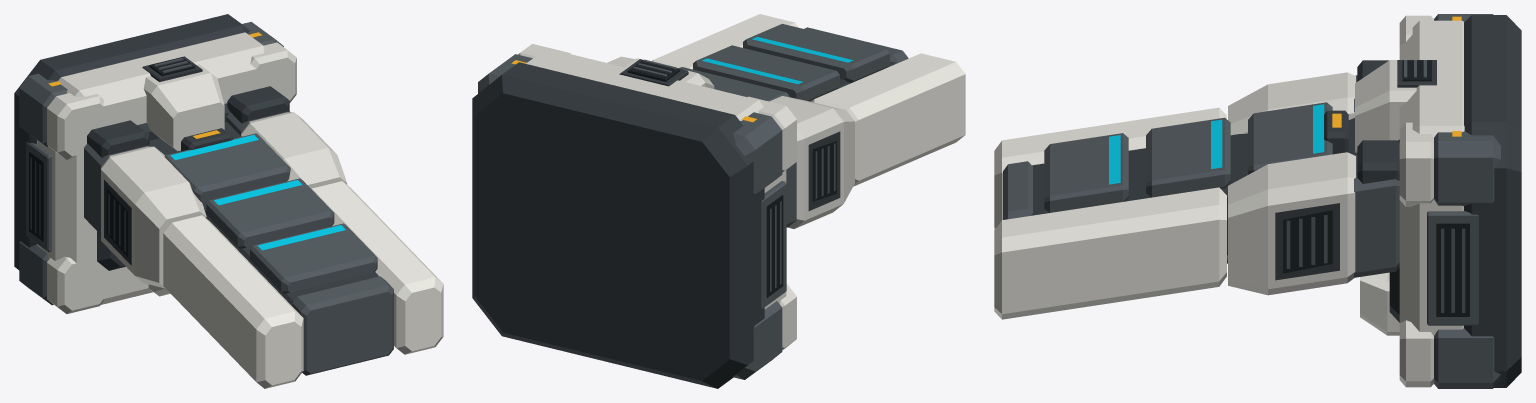
The model's file is shared_corner.obj.
The picture shows the model from 3 angles, left to right: view 1: azimuth 30°, elevation 25°; view 2: azimuth 150°, elevation 25°; view 3: azimuth 270°, elevation 25°; orthographic projection. The views are drawn at different scales.
Parts seen in each view (by area): view 1: long_cheek, sculpted_foot, flared_hip, upper_crossbeam, bumper_cap, lower_plinth, emitter_slab_2, emitter_slab_1, emitter_slab_0, front_service, bumper, ankle_front_brace (+14 smaller); view 2: lower_plinth, long_cheek, bumper, flared_hip, sculpted_foot, emitter_slab_2, emitter_slab_1, bumper_cap, side_vent_frame, side_vent, hip_vent, emitter_slab_0 (+9 smaller); view 3: long_cheek, lower_plinth, flared_hip, sculpted_foot, bumper, emitter_slab_1, emitter_slab_2, bumper_cap, ankle, emitter_slab_0, front_service, side_vent_frame (+16 smaller).
Boxes of the visible parts, x1,y1,x2,y2 form: long_cheek: [163, 181, 443, 388]; sculpted_foot: [37, 32, 280, 304]; flared_hip: [101, 112, 347, 288]; upper_crossbeam: [292, 276, 393, 375]; bumper_cap: [47, 42, 296, 313]; lower_plinth: [14, 14, 249, 270]; emitter_slab_2: [250, 223, 377, 293]; emitter_slab_1: [206, 178, 334, 248]; emitter_slab_0: [164, 133, 290, 202]; front_service: [143, 64, 224, 150]; bumper: [19, 21, 283, 305]; ankle_front_brace: [87, 86, 289, 157]; lower_plinth: [472, 62, 764, 388]; long_cheek: [652, 14, 965, 186]; bumper: [478, 54, 782, 379]; flared_hip: [607, 56, 854, 228]; sculpted_foot: [526, 48, 786, 309]; emitter_slab_2: [743, 23, 889, 83]; emitter_slab_1: [693, 45, 839, 101]; bumper_cap: [518, 44, 796, 349]; side_vent_frame: [761, 181, 786, 308]; side_vent: [766, 195, 783, 297]; hip_vent: [812, 141, 836, 201]; emitter_slab_0: [679, 67, 789, 101]; long_cheek: [994, 107, 1226, 319]; lower_plinth: [1464, 15, 1521, 387]; flared_hip: [1228, 72, 1355, 295]; sculpted_foot: [1399, 20, 1464, 335]; bumper: [1434, 14, 1500, 388]; emitter_slab_1: [1146, 117, 1230, 197]; emitter_slab_2: [1044, 133, 1128, 213]; bumper_cap: [1399, 15, 1433, 387]; ankle: [1354, 75, 1399, 277]; emitter_slab_0: [1248, 102, 1332, 174]; front_service: [1355, 60, 1416, 152]; side_vent_frame: [1427, 211, 1478, 325].
Size of the model in its own units: 1.32 by 1.18 by 2.12.
